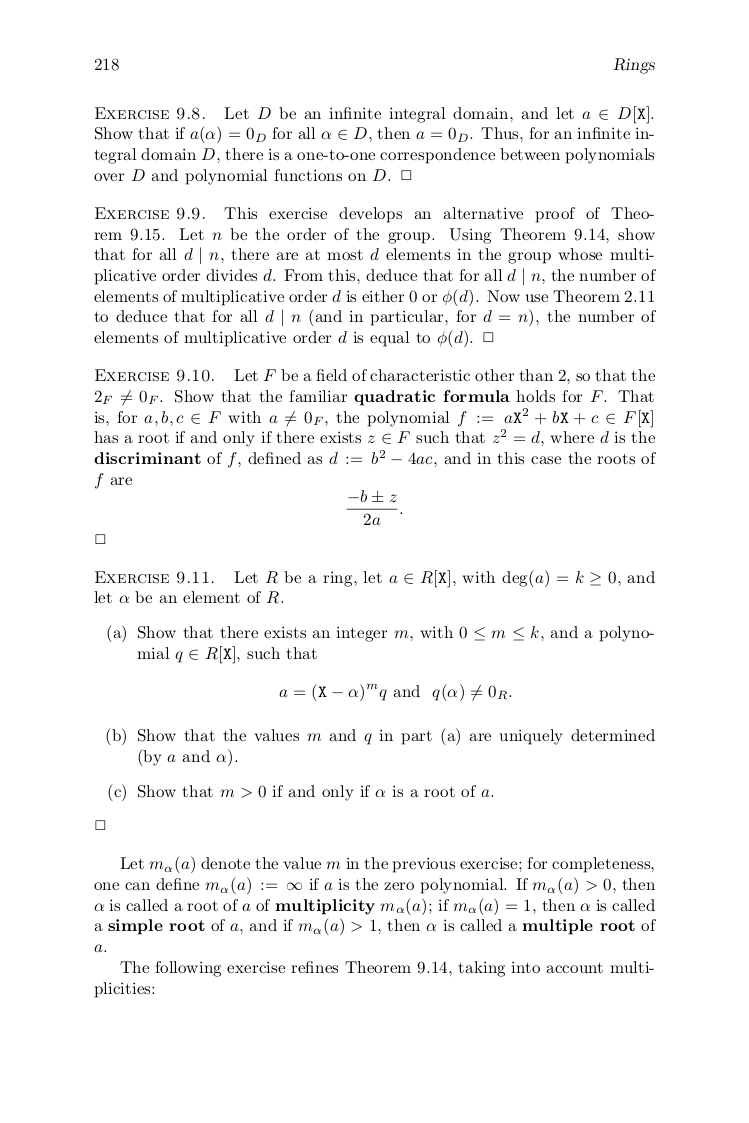formula: (279, 682, 511, 702), (346, 490, 402, 525)
